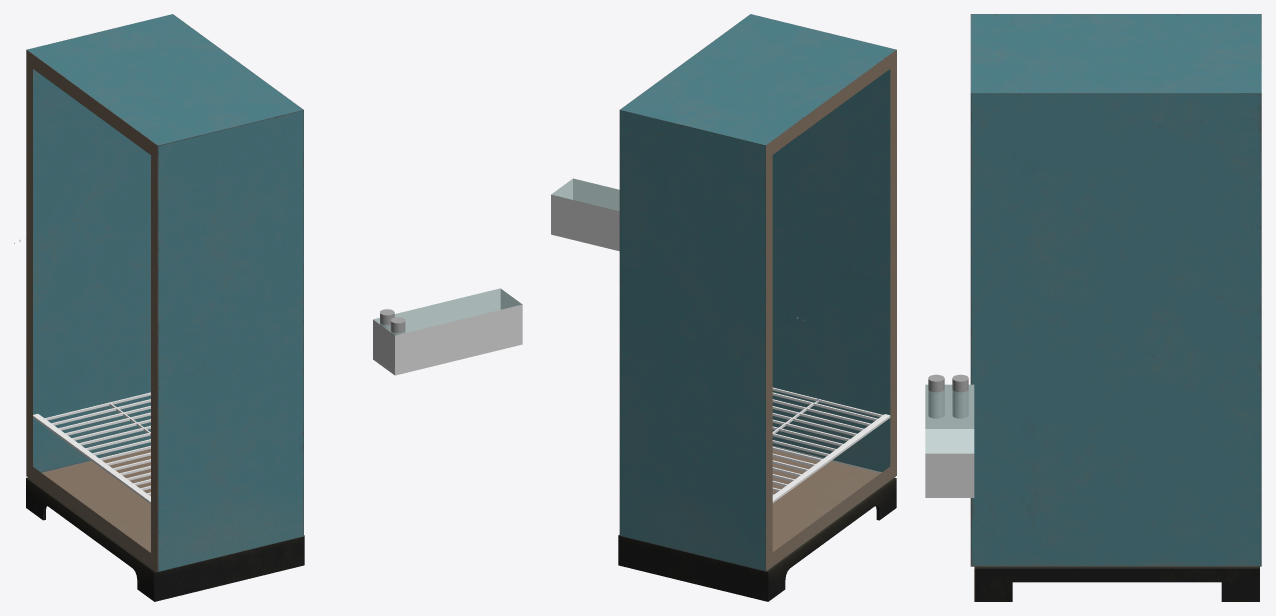
3 views of the same model, side by side, from view 1: azimuth 30°, elevation 25°; view 2: azimuth 150°, elevation 25°; view 3: azimuth 270°, elevation 25° (orthographic). The views are drawn at different scales.
Parts seen in each view (by area): view 1: pCube211, Cube, Box033_Chrome_0.001; view 2: pCube211, Box033_Chrome_0.001, Cube; view 3: pCube211, Cube, Cylinder.
Boxes of the visible parts, box(x1,y1,x2,y2) form: pCube211: box(14, 14, 304, 601); Cube: box(373, 288, 522, 375); Box033_Chrome_0.001: box(33, 392, 150, 503); pCube211: box(618, 14, 896, 601); Box033_Chrome_0.001: box(772, 387, 890, 503); Cube: box(551, 178, 619, 251); pCube211: box(970, 14, 1261, 601); Cube: box(925, 384, 974, 497); Cylinder: box(928, 374, 968, 418).
Bounding box in the file's own units: 116 × 137 × 82.29.
5 materials, 1 textured.
